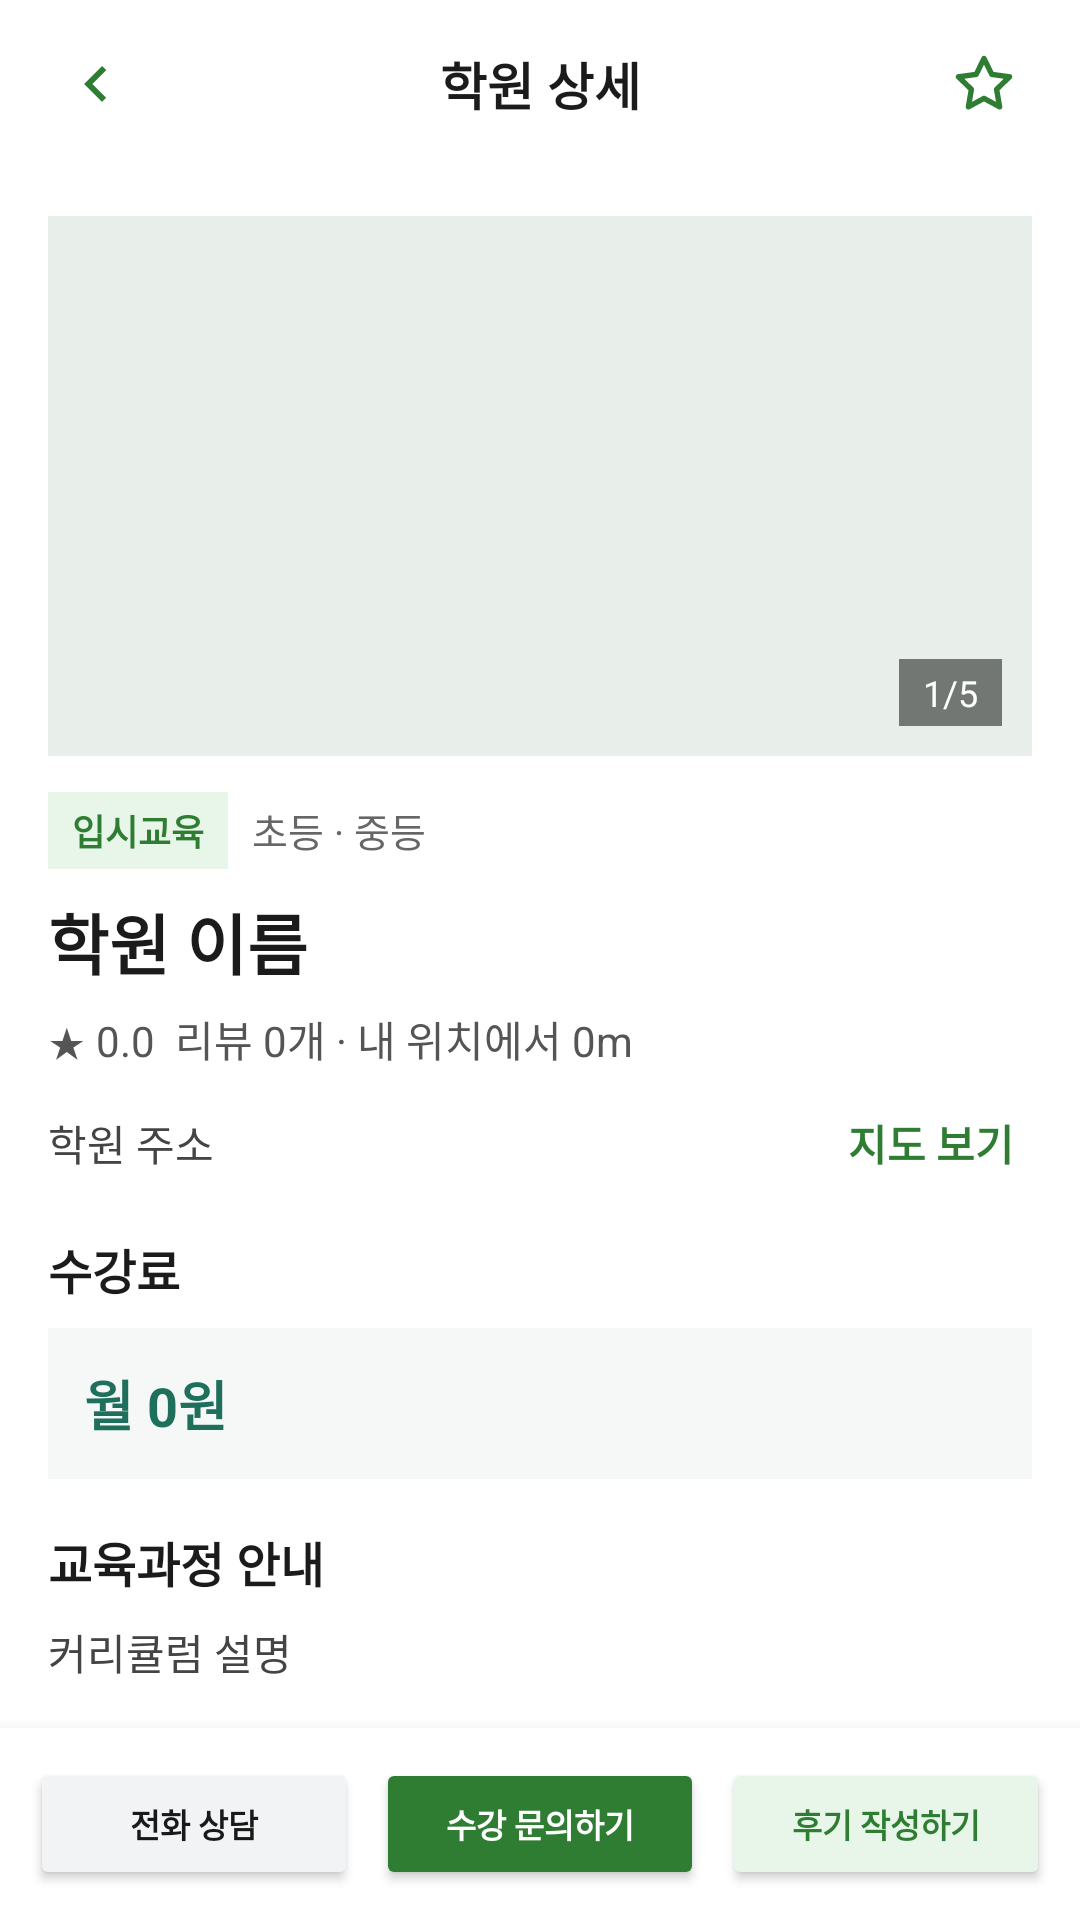

Locate icon controls on the screen. Image size 1080*1920, boxes as (x1, y1, x2, y2).
뒤로가기: (84, 66, 106, 102)
찜하기: (955, 55, 1013, 110)
